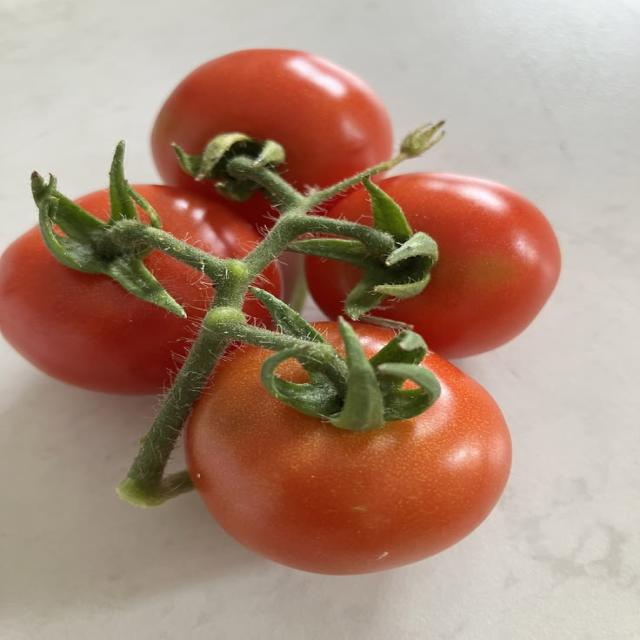tomato: (186, 348, 511, 574), (152, 49, 393, 198), (0, 228, 213, 394), (372, 173, 560, 357)
